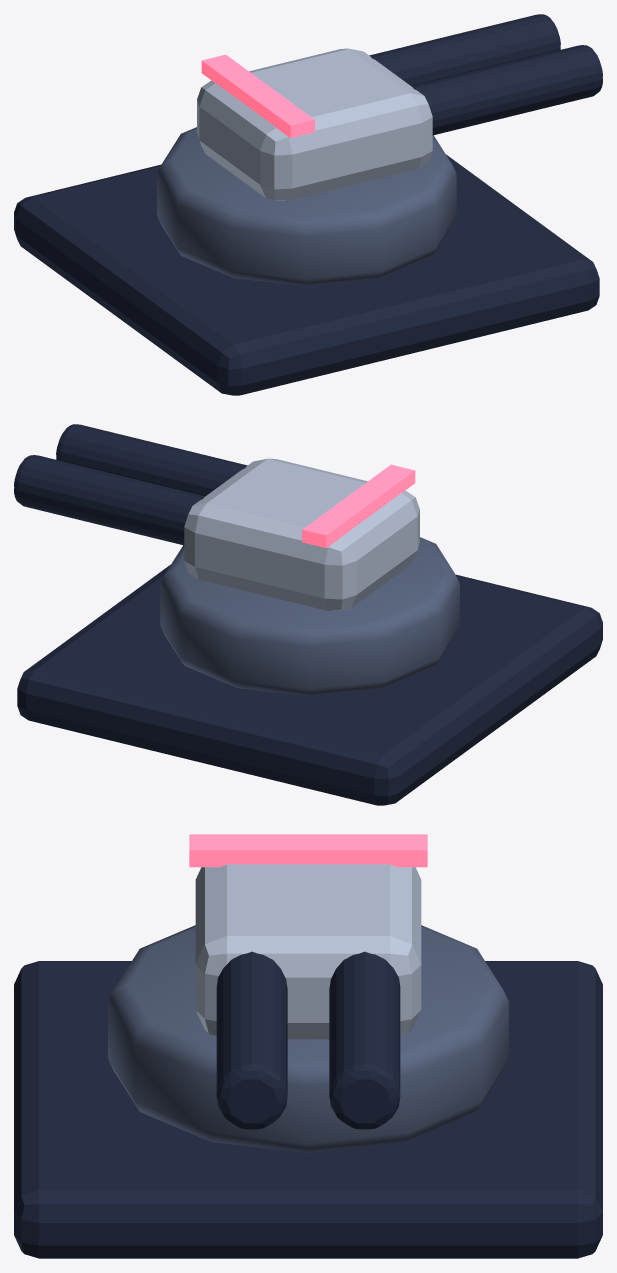
Rendered from mod_weapon_mount.glb.
The picture shows the model from 3 angles, top to bottom: view 1: azimuth 30°, elevation 25°; view 2: azimuth 150°, elevation 25°; view 3: azimuth 270°, elevation 25°; orthographic projection. The views are drawn at different scales.
Visible parts, largest first — view 1: mod_weapon_mount; view 2: mod_weapon_mount; view 3: mod_weapon_mount.
Boxes of the visible parts, left/top/right/bottom form: mod_weapon_mount: left=14, top=14, right=602, bottom=395; mod_weapon_mount: left=14, top=424, right=602, bottom=805; mod_weapon_mount: left=14, top=834, right=602, bottom=1258.
Size of the model in its own units: 1.12 by 0.475 by 0.94.
